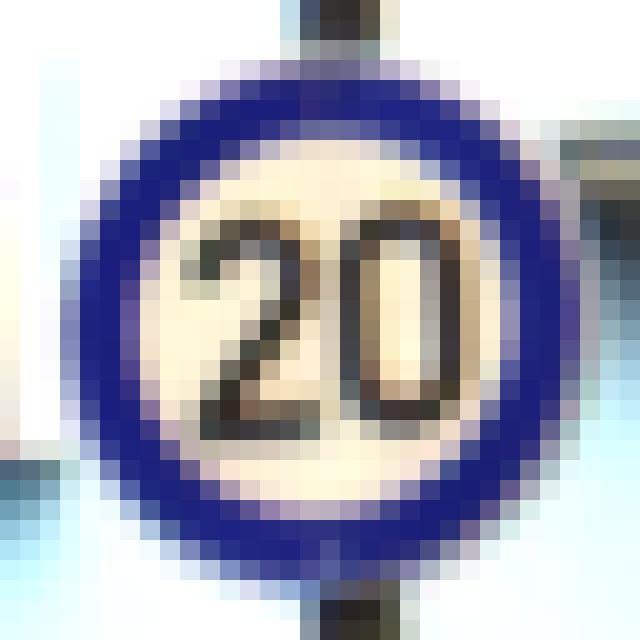SPEED LIMIT 20: (62, 59, 588, 568)
